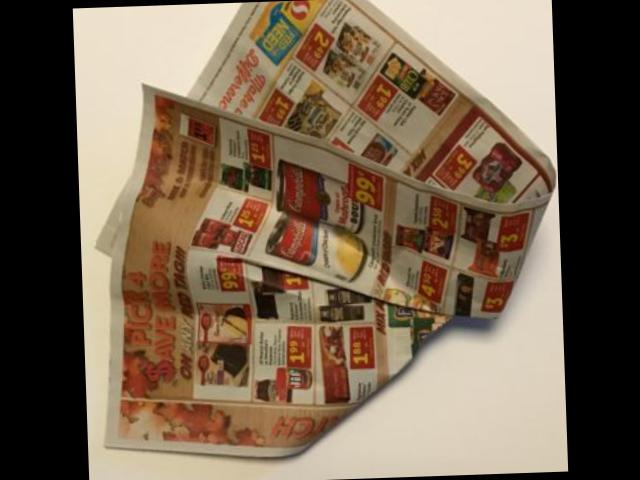cardboard paper: (107, 0, 555, 455)
